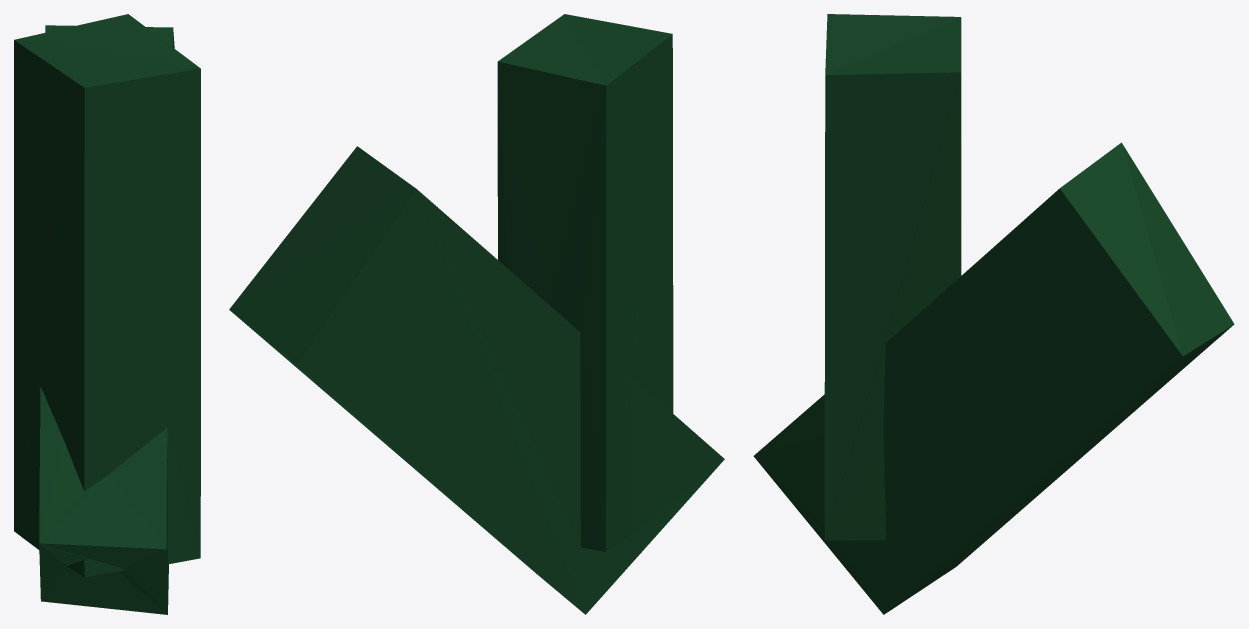
3 renders of one model, left to right at view 1: azimuth 30°, elevation 25°; view 2: azimuth 150°, elevation 25°; view 3: azimuth 270°, elevation 25°, orthographic. The views are drawn at different scales.
Visible parts, largest first — view 1: 035_Cube.148; view 2: 035_Cube.148; view 3: 035_Cube.148.
Part boxes in pixels (x1,y1,x2,y2): 035_Cube.148: (14,14,200,614); 035_Cube.148: (229,14,724,614); 035_Cube.148: (753,14,1234,614).
Bounding box in the file's own units: 8.51 × 14.15 × 11.25.
